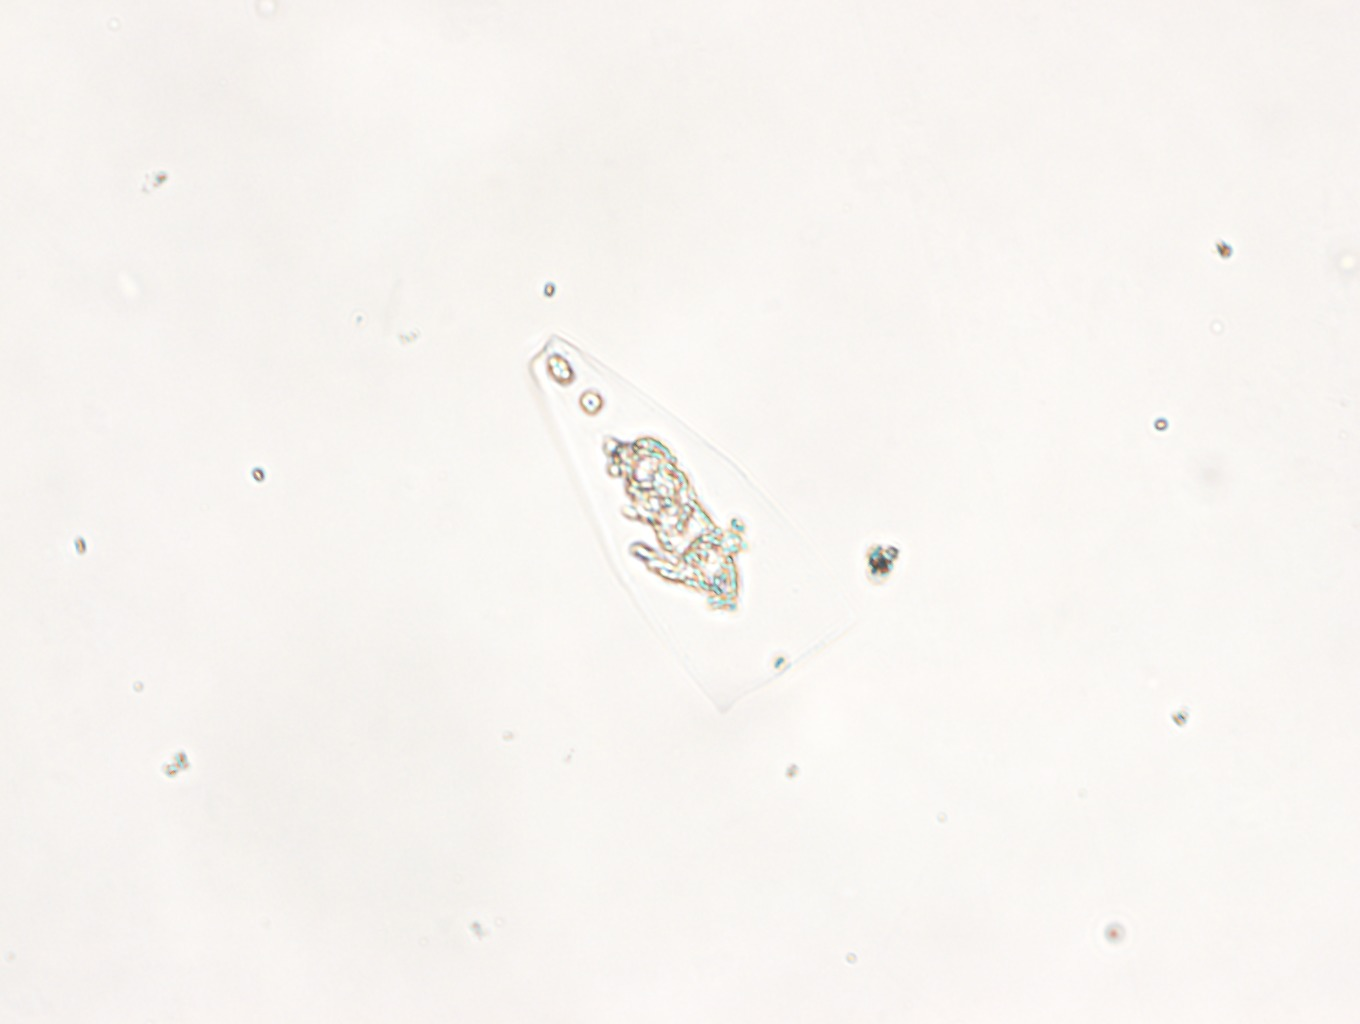helicotheca: (529, 333, 849, 708)
